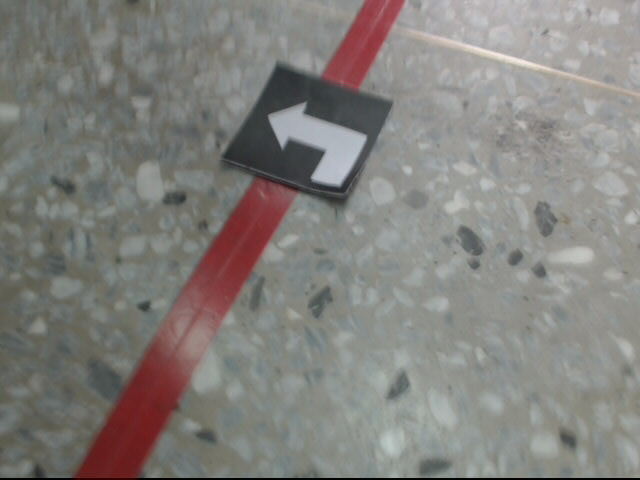left: (221, 62, 394, 200)
